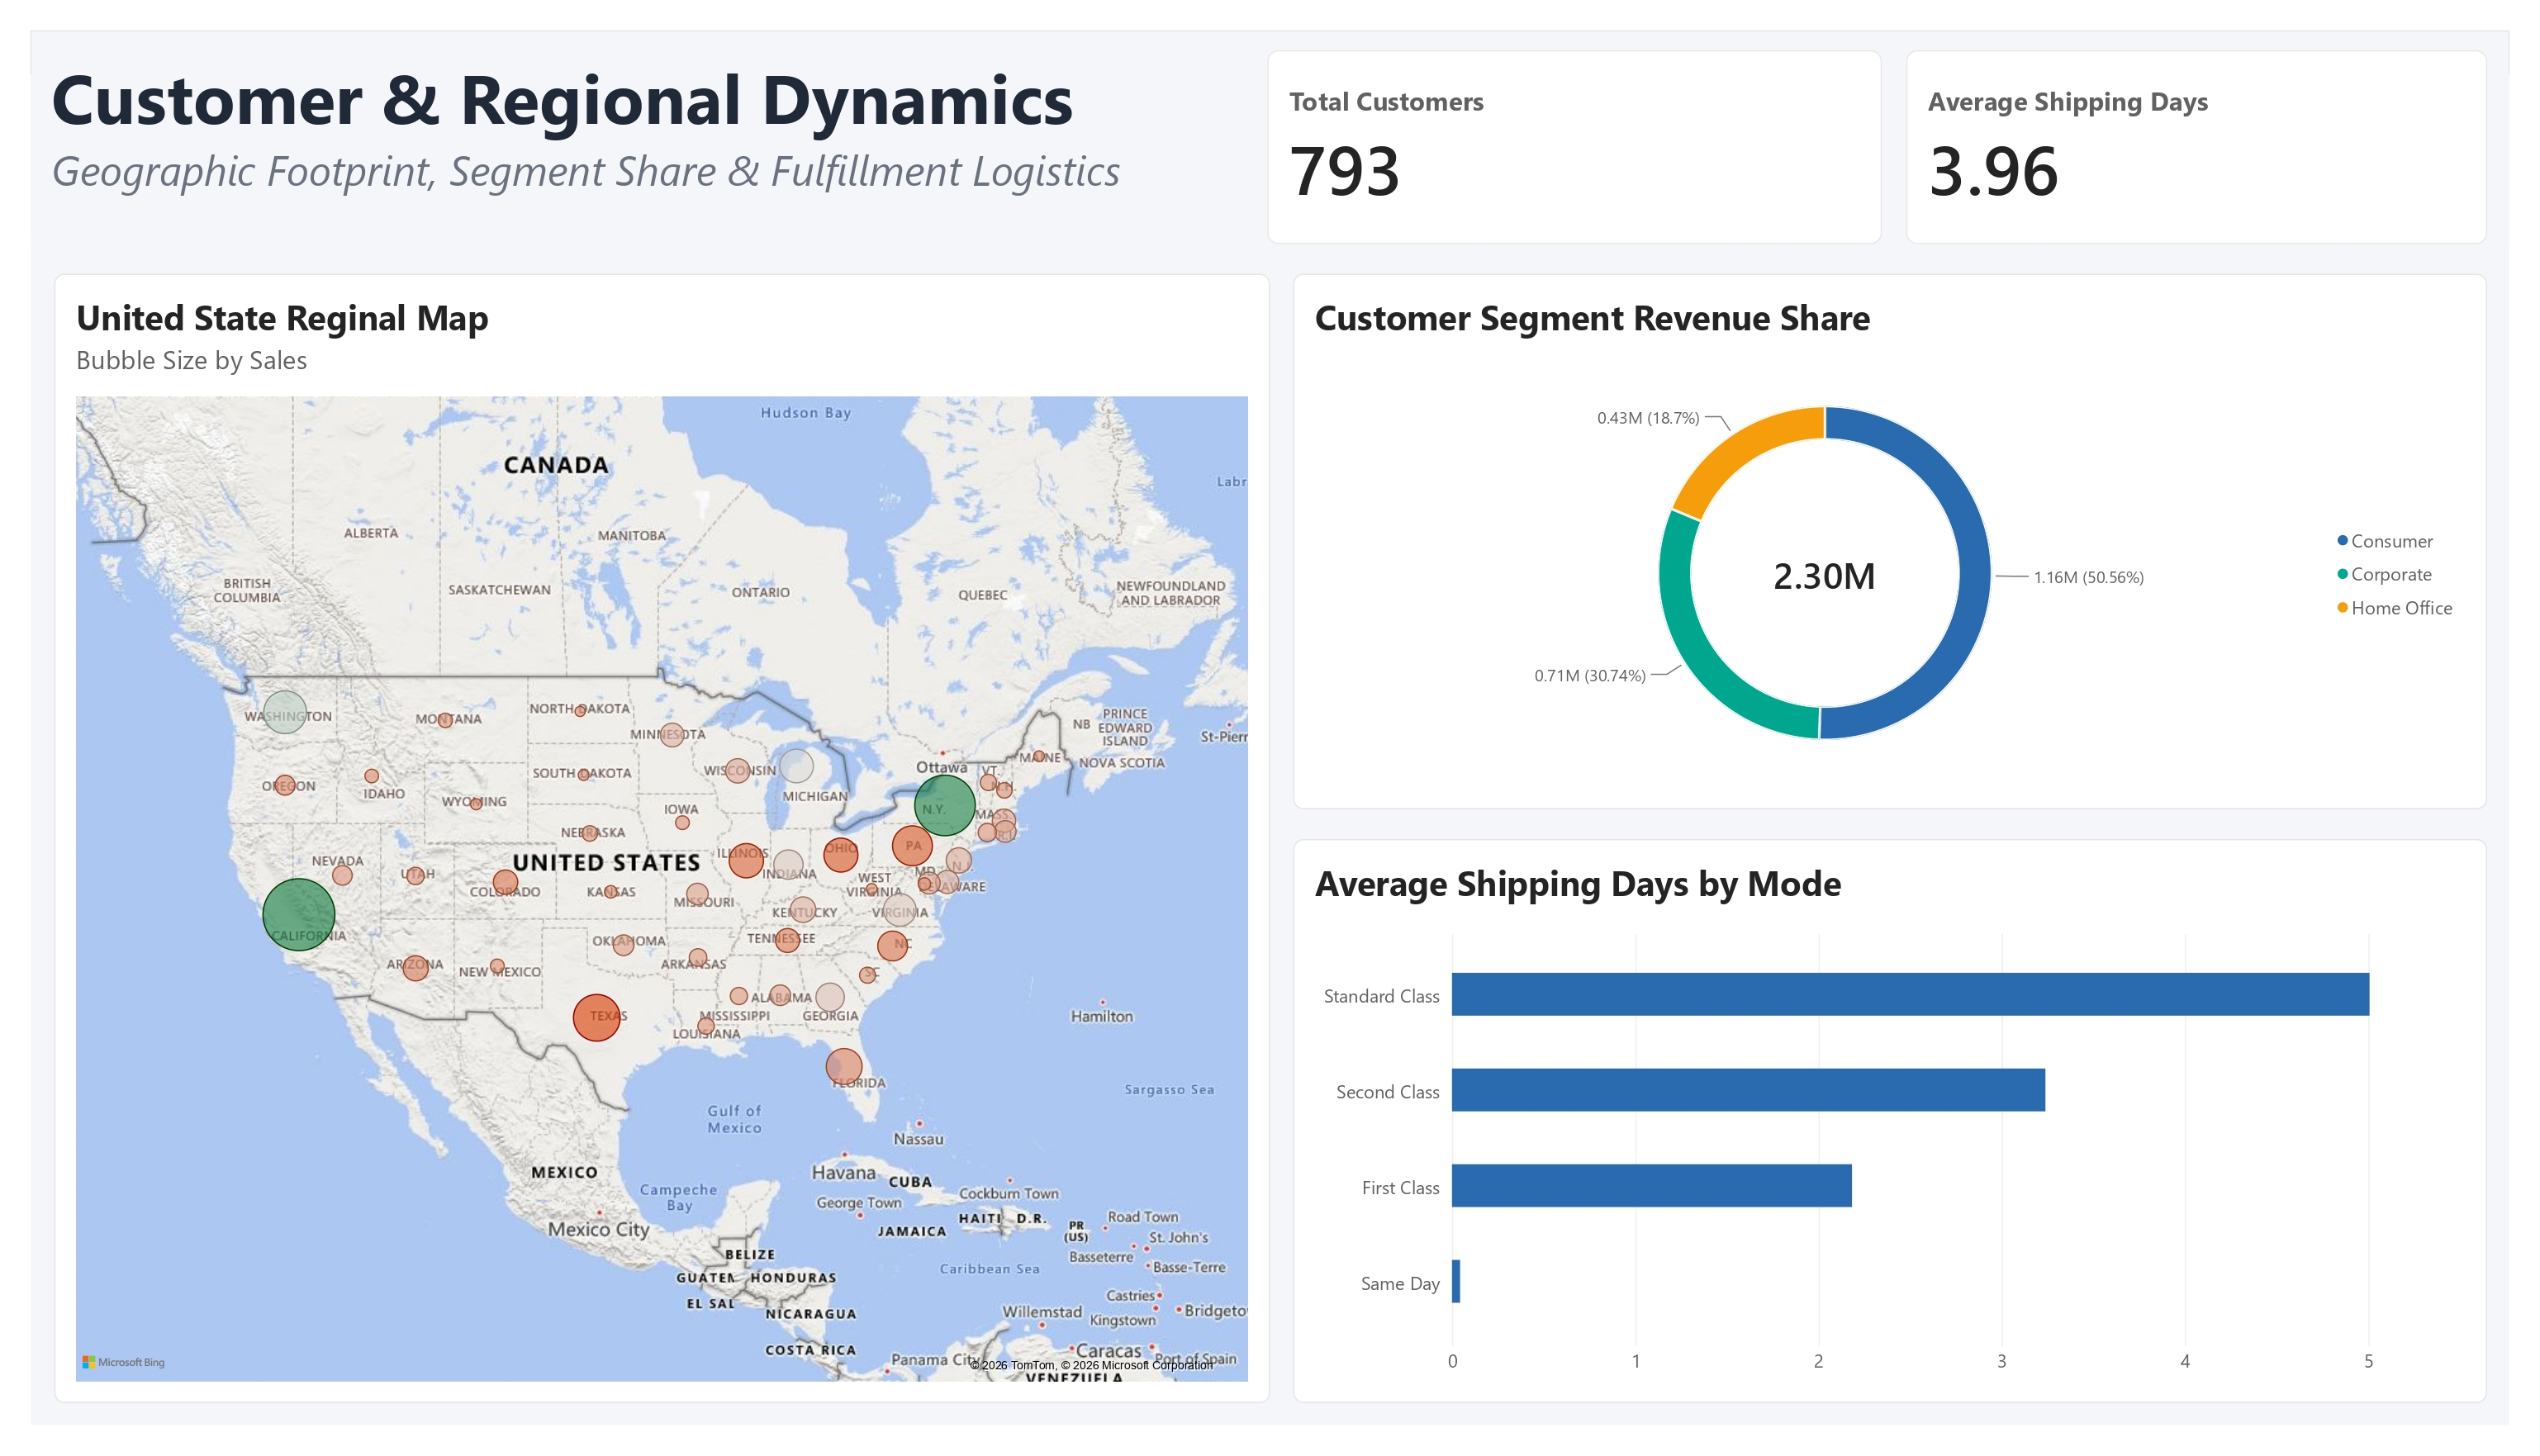

What the dashboard file says about the page in this screenshot:
{"tool":"powerbi","page":{"name":"Customer & Regional Dynamics","canvas":[1920,1080],"ordinal":2},"visuals":[{"type":"textbox","box":[16,14,944,152],"z":0},{"type":"cardVisual","fields":{"Data":["_Measures.Total Customers"]},"box":[958.3,15,476.7,150],"z":3},{"type":"cardVisual","fields":{"Data":["_Measures.Average Shipping Days"]},"box":[1453.3,15,450,150],"z":5},{"type":"map","title":"United State Reginal Map","fields":{"Category":["retail_sales.state"],"Size":["_Measures.Total Sales"]},"box":[17.5,187.5,942.5,875],"z":6},{"type":"donutChart","title":"Customer Segment Revenue Share","fields":{"Category":["retail_sales.segment"],"Y":["_Measures.Total Sales"]},"box":[977.5,187.5,925,415],"z":7},{"type":"clusteredBarChart","title":"Average Shipping Days by Mode","fields":{"Category":["retail_sales.ship_mode"],"Y":["_Measures.Average Shipping Days"]},"box":[978,626,925,437],"z":8}]}

Visuals, with their boxes on the page's 1920x1080 design canvas (x1, y1, x2, y2). These are canvas units, not pixel positions in the 2540x1456 screenshot, which may show the page scaled, cropped or inside an application window:
textbox: l=16, t=14, r=960, b=166
cardVisual - _Measures.Total Customers: l=958, t=15, r=1435, b=165
cardVisual - _Measures.Average Shipping Days: l=1453, t=15, r=1903, b=165
"United State Reginal Map" map: l=18, t=188, r=960, b=1062
"Customer Segment Revenue Share" donutChart: l=978, t=188, r=1902, b=602
"Average Shipping Days by Mode" clusteredBarChart: l=978, t=626, r=1903, b=1063
